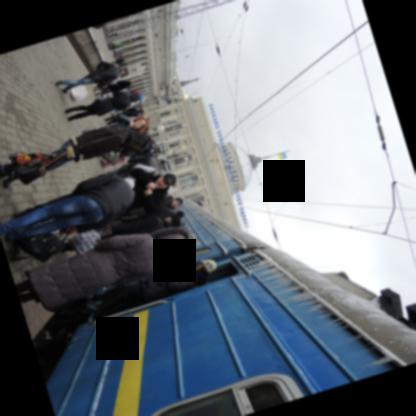backpack: (141, 151, 152, 156)
handbag: (12, 150, 65, 186), (24, 230, 70, 263), (67, 229, 109, 254), (6, 152, 41, 167), (99, 147, 122, 165), (107, 80, 115, 84)
suitcase: (14, 232, 64, 263), (99, 156, 126, 168)
